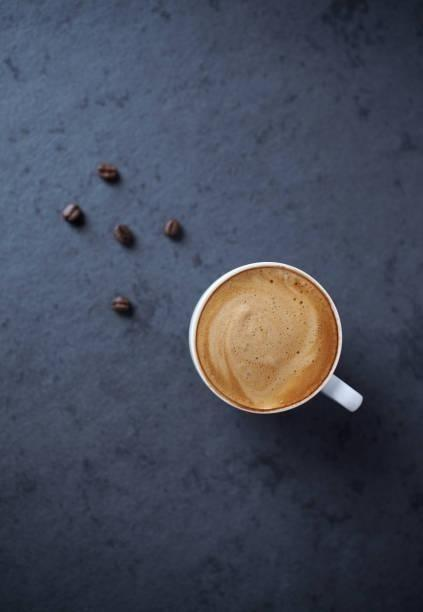cup-handle: (186, 260, 364, 419)
